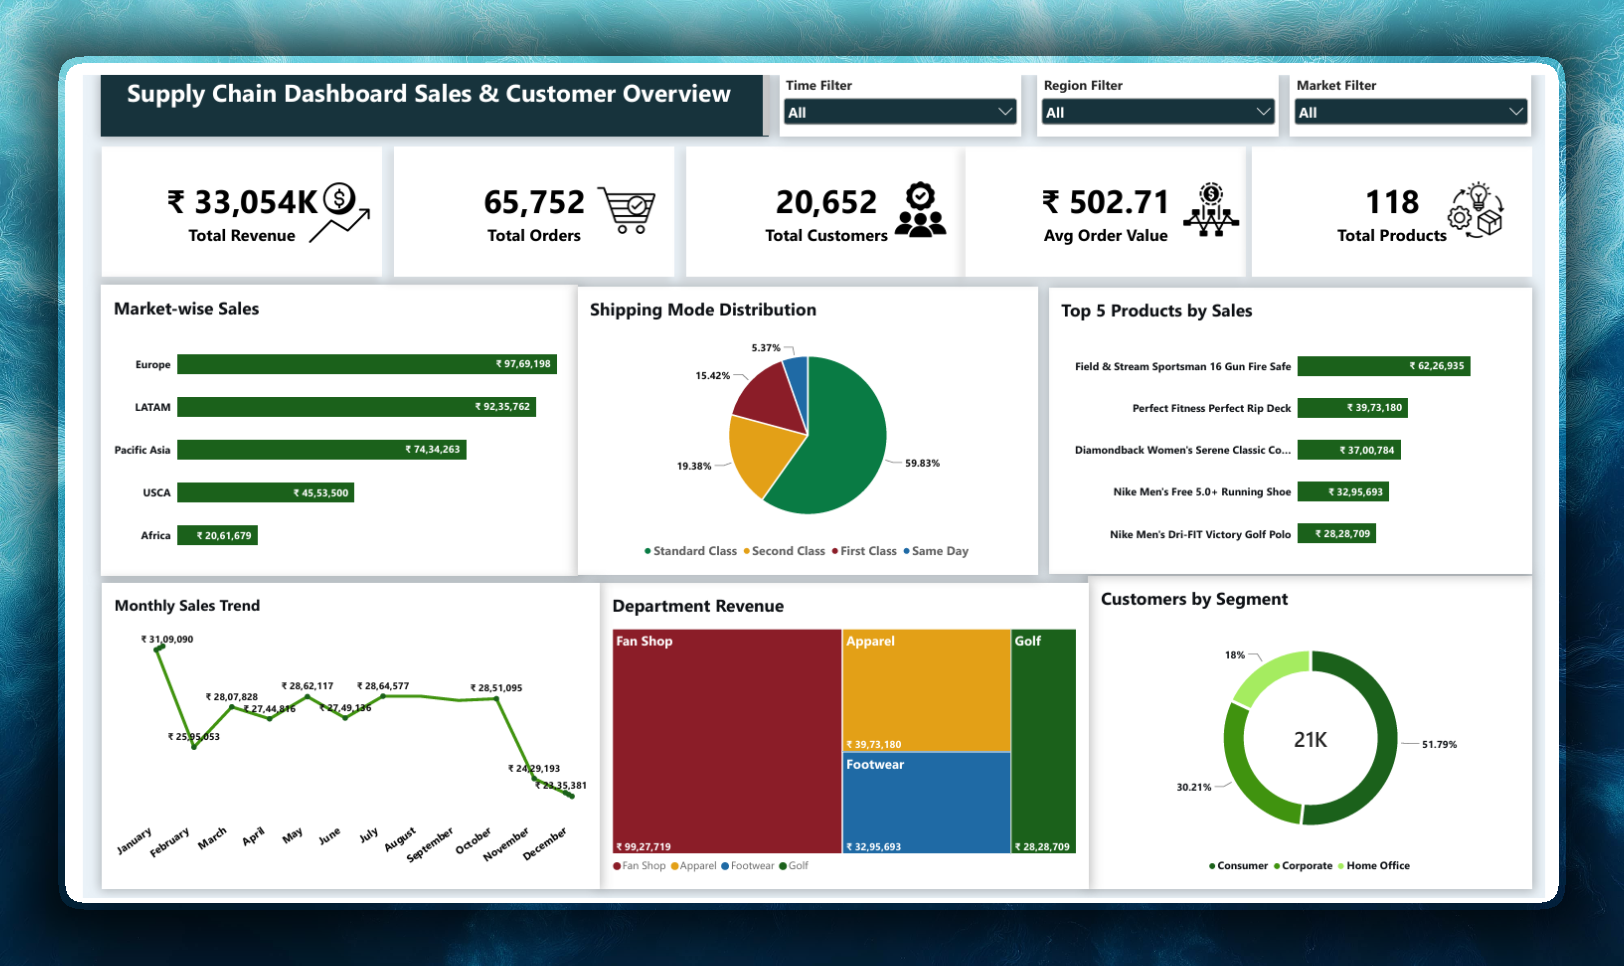

Layout of this report page (visuals, bound fields, positions):
{"tool":"powerbi","page":{"name":"\tSales & Customer Overview","canvas":[1920,1080],"ordinal":0},"visuals":[{"type":"card","fields":{"Values":["mesure_table.Total Revenue"]},"box":[24.8,93.6,366.9,170.1],"z":0},{"type":"textbox","box":[23.5,0,877.7,79.6],"z":1000},{"type":"barChart","title":"Market-wise Sales","fields":{"Category":["Orders.Market"],"Y":["mesure_table.Total Revenue"]},"box":[24.4,276.4,625.9,382.1],"z":2000},{"type":"donutChart","title":"Customers by Segment","fields":{"Category":["Customers.Customer Segment"],"Y":["mesure_table.Total Customers"]},"box":[1320.9,658.4,583.2,410.5],"z":3000},{"type":"barChart","title":"Top 5 Products by Sales","fields":{"Y":["mesure_table.Total Revenue"],"Category":["Products.Product Name"]},"box":[1268.8,279,634.4,376.4],"z":4000},{"type":"treemap","title":"Department Revenue","fields":{"Values":["mesure_table.Total Revenue"],"Group":["Products.Department Name"]},"box":[678.7,666.6,642.2,402.4],"z":5000},{"type":"pieChart","title":"\tShipping Mode Distribution","fields":{"Y":["mesure_table.Total Orders"],"Category":["Orders.Shipping Mode"]},"box":[650.3,278.4,603.6,378],"z":6000},{"type":"lineChart","title":"\tMonthly Sales Trend","fields":{"Y":["mesure_table.Total Revenue"],"Category":["Orders.order date (DateOrders).Variation.Date Hierarchy.Month"]},"box":[24.8,666.9,653.5,401.3],"z":7000},{"type":"card","fields":{"Values":["mesure_table.Total Orders"]},"box":[408.9,93.6,366.9,170.1],"z":8000},{"type":"card","fields":{"Values":["mesure_table.Total Customers"]},"box":[793,93.6,366.9,170.1],"z":9000},{"type":"card","fields":{"Values":["mesure_table.Avg Order Value"]},"box":[1159.9,93.6,366.9,170.1],"z":10000},{"type":"card","fields":{"Values":["mesure_table.Total Products"]},"box":[1536.3,93.6,366.9,170.1],"z":11000},{"type":"slicer","fields":{"Values":["Orders.order date (DateOrders).Variation.Date Hierarchy.Year","Orders.order date (DateOrders).Variation.Date Hierarchy.Quarter","Orders.order date (DateOrders).Variation.Date Hierarchy.Month","Orders.order date (DateOrders).Variation.Date Hierarchy.Day"]},"box":[915.3,0,317.2,80.3],"z":12000},{"type":"slicer","fields":{"Values":["Orders.Order Region"]},"box":[1253.5,0,317.2,80.3],"z":13000},{"type":"slicer","fields":{"Values":["Orders.Market"]},"box":[1586,0,317.2,80.3],"z":14000},{"type":"image","box":[264.2,137.5,144.8,85.1],"z":15000},{"type":"image","box":[649.7,137.5,126.7,79.6],"z":16000},{"type":"image","box":[1053.2,137.5,94.1,76],"z":17000},{"type":"image","box":[1436.9,137.5,90.5,76],"z":18000},{"type":"image","box":[1775.3,137.5,108.6,77.8],"z":19000}]}

Visuals, with their boxes on the page's 1920x1080 design canvas (x1, y1, x2, y2). These are canvas units, not pixel positions in the 1624x966 screenshot, which may show the page scaled, cropped or inside an application window:
card - mesure_table.Total Revenue: locate(25, 94, 392, 264)
textbox: locate(24, 0, 901, 80)
"Market-wise Sales" barChart: locate(24, 276, 650, 658)
"Customers by Segment" donutChart: locate(1321, 658, 1904, 1069)
"Top 5 Products by Sales" barChart: locate(1269, 279, 1903, 655)
"Department Revenue" treemap: locate(679, 667, 1321, 1069)
"	Shipping Mode Distribution" pieChart: locate(650, 278, 1254, 656)
"	Monthly Sales Trend" lineChart: locate(25, 667, 678, 1068)
card - mesure_table.Total Orders: locate(409, 94, 776, 264)
card - mesure_table.Total Customers: locate(793, 94, 1160, 264)
card - mesure_table.Avg Order Value: locate(1160, 94, 1527, 264)
card - mesure_table.Total Products: locate(1536, 94, 1903, 264)
slicer - Orders.order date (DateOrders).Variation.Date Hierarchy.Year x Orders.order date (DateOrders).Variation.Date Hierarchy.Quarter: locate(915, 0, 1232, 80)
slicer - Orders.Order Region: locate(1254, 0, 1571, 80)
slicer - Orders.Market: locate(1586, 0, 1903, 80)
image: locate(264, 138, 409, 223)
image: locate(650, 138, 776, 217)
image: locate(1053, 138, 1147, 214)
image: locate(1437, 138, 1527, 214)
image: locate(1775, 138, 1884, 215)
